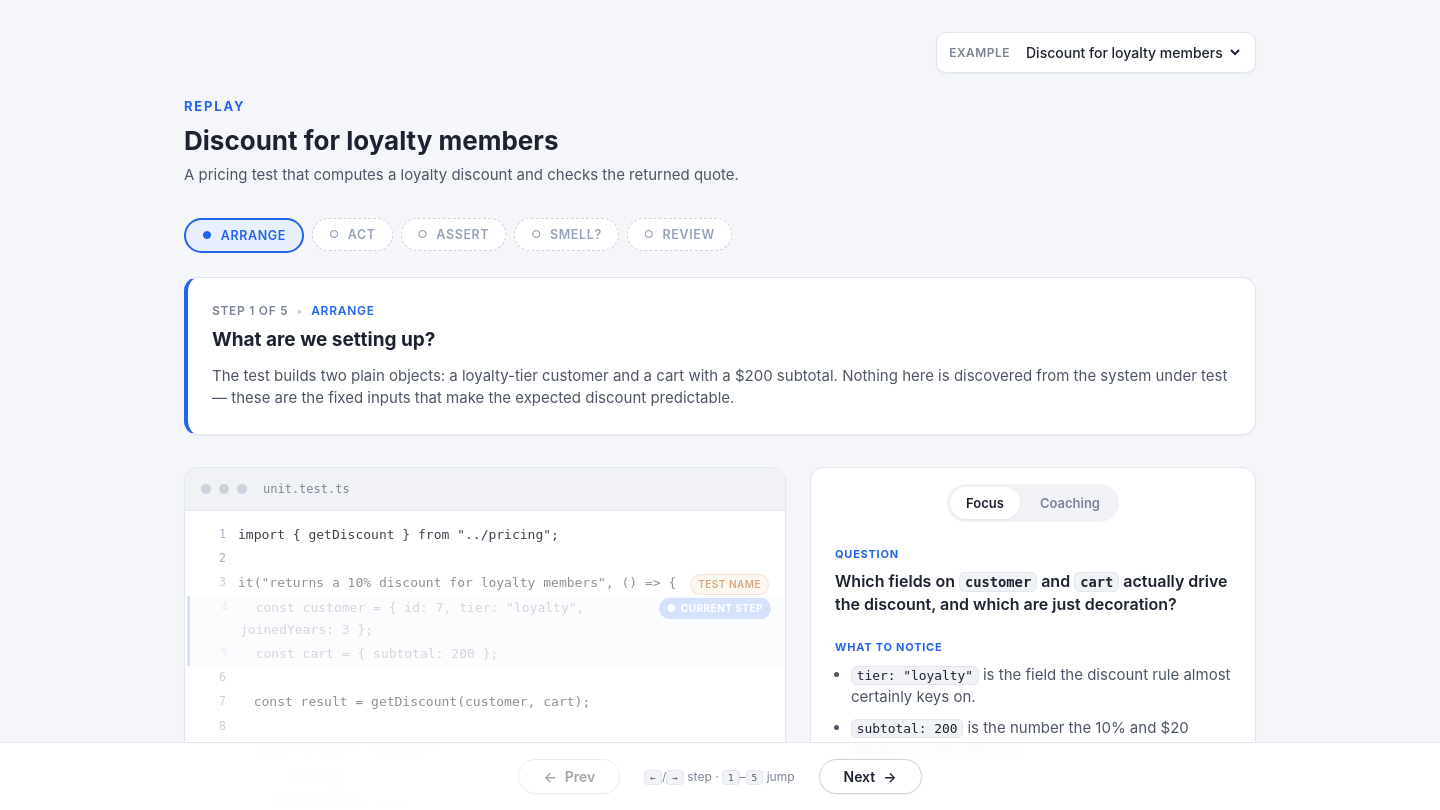
Test: ReplayApp walkthrough interaction › advances through the timeline to the review step via the Next button
The image size is (1440, 810).
Click the button "Next →": point(870, 776) left=818, top=759, right=922, bottom=794
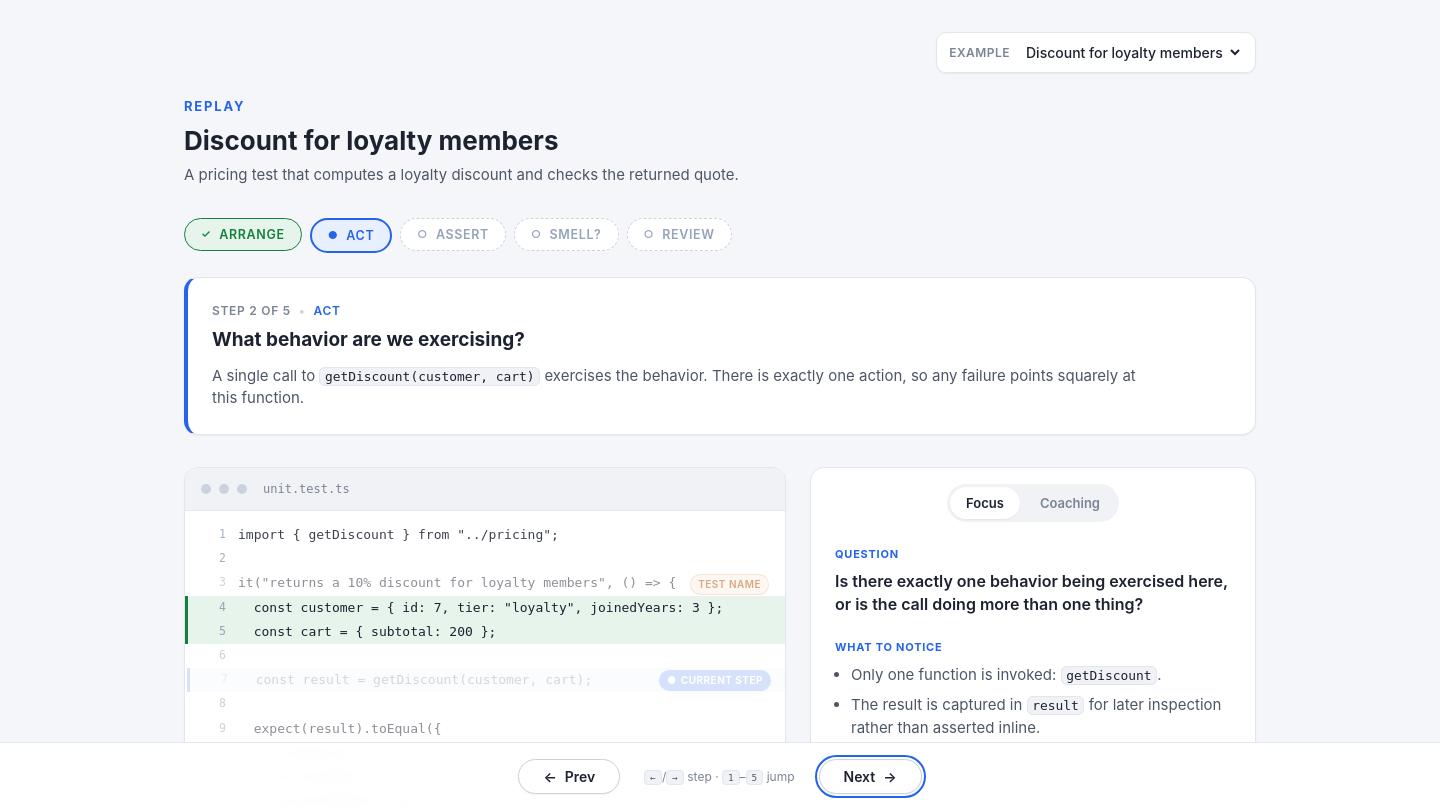
Click the button "Next →": point(870, 776) left=818, top=759, right=922, bottom=794
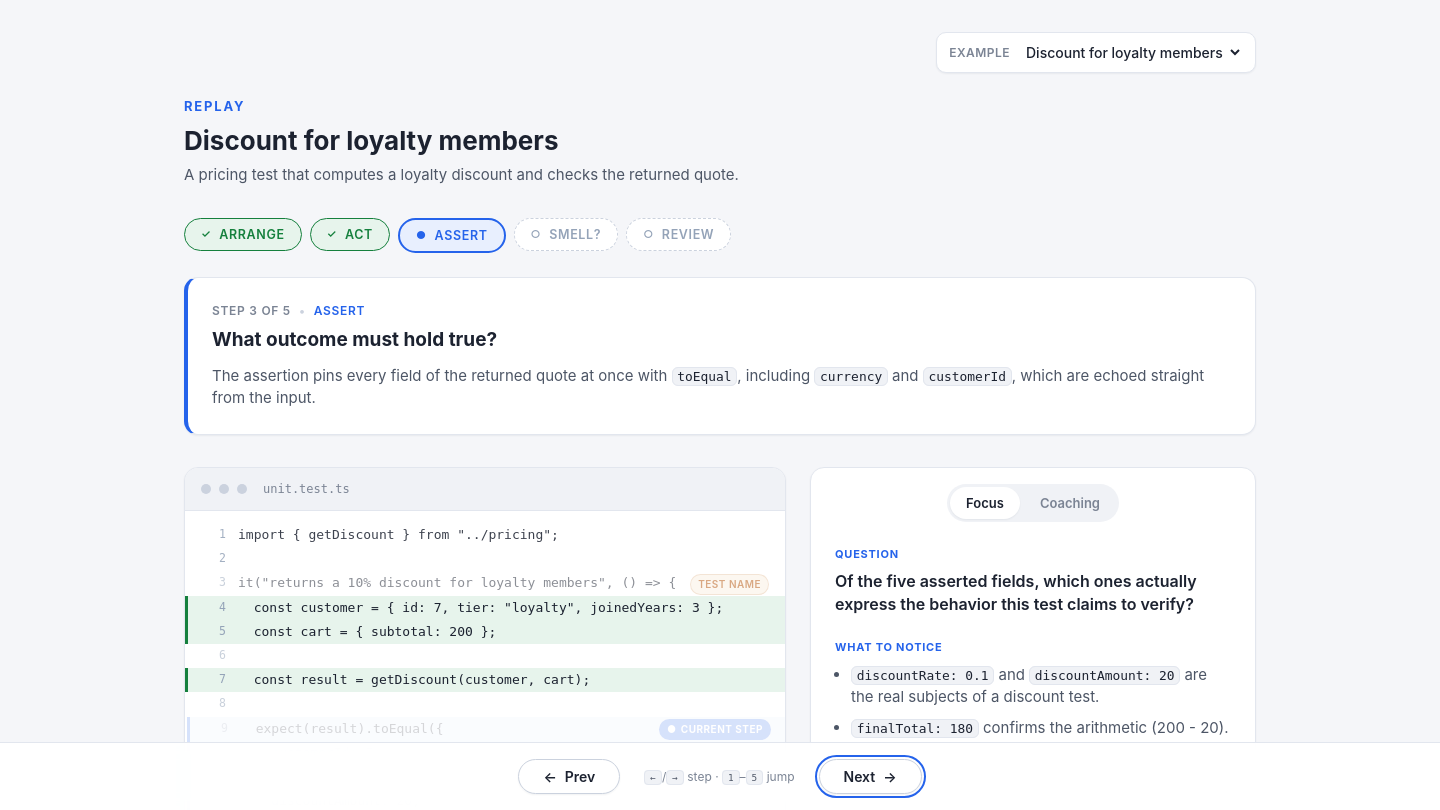
Click the button "Next →": point(870, 776) left=818, top=759, right=922, bottom=794
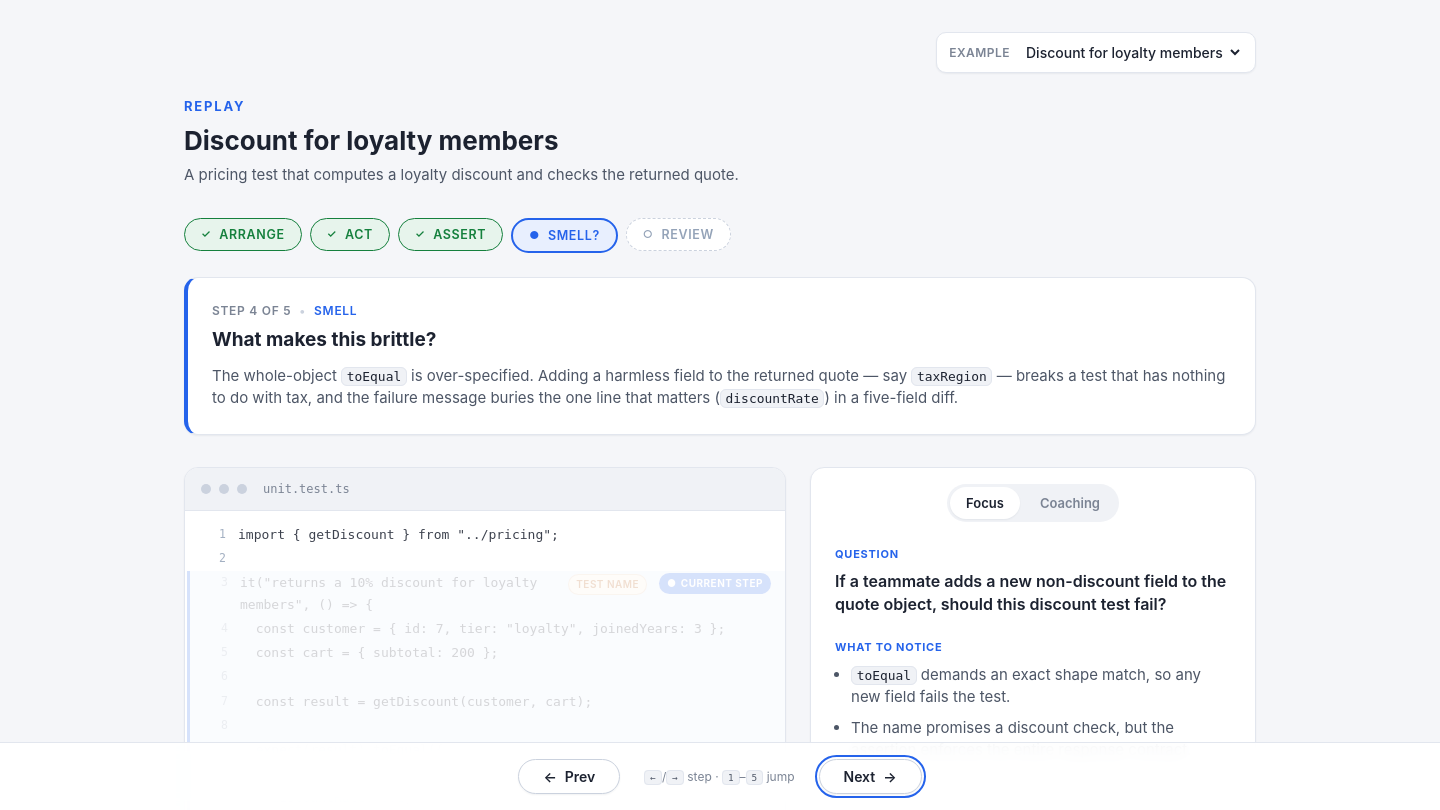
Click the button "Next →": point(870, 776) left=818, top=759, right=922, bottom=794
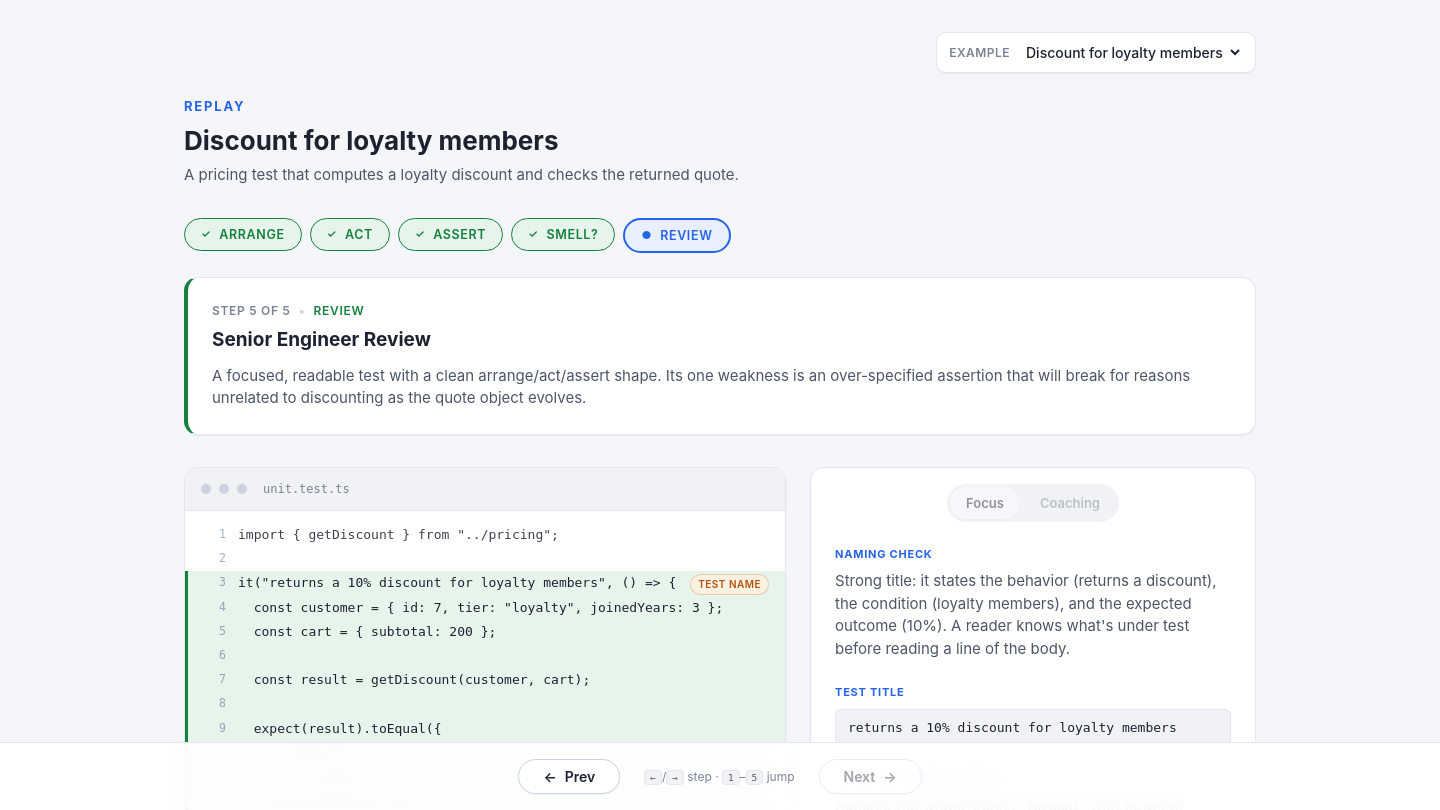
Expected: the text "Step 5 of 5 • REVIEW" is shown, left=212, top=303, right=364, bottom=318
Expected: the heading "Senior Engineer Review" is shown, left=212, top=328, right=431, bottom=351
Expected: the button "Next →" is disabled, left=818, top=759, right=922, bottom=794
